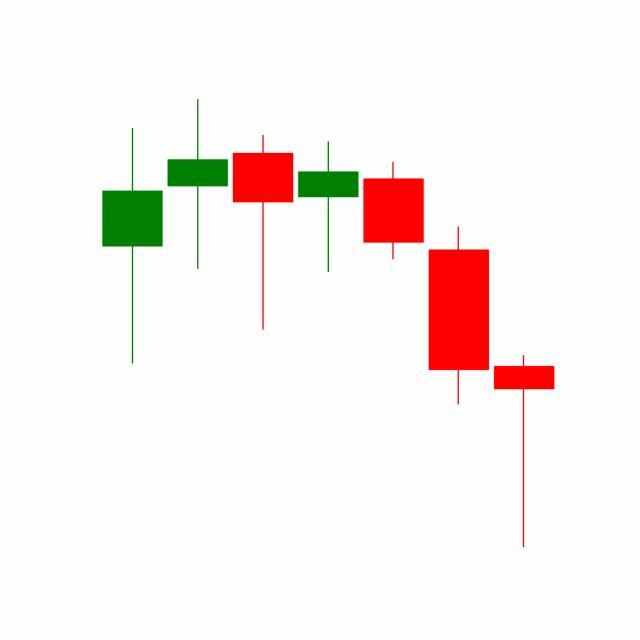Hikkake Pattern: (165, 99, 492, 409)
